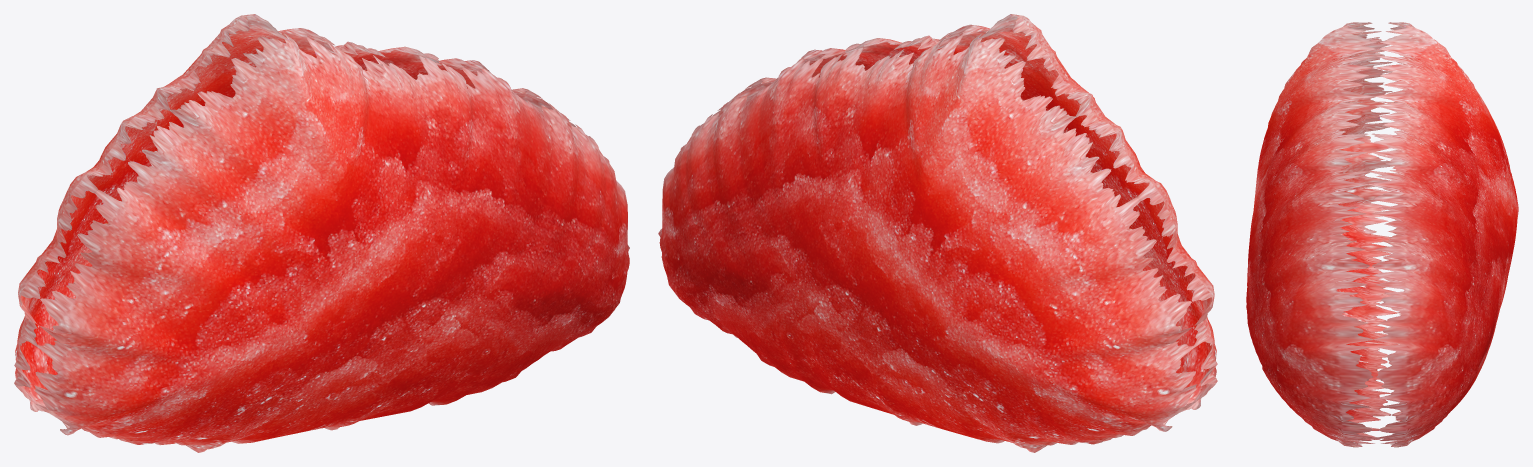
The model's file is fresa-vodka.glb.
3 views of the same model, side by side, from view 1: azimuth 30°, elevation 25°; view 2: azimuth 150°, elevation 25°; view 3: azimuth 270°, elevation 25° (orthographic). The views are drawn at different scales.
Parts seen in each view (by area): view 1: fresa-vodka; view 2: fresa-vodka; view 3: fresa-vodka.
Part boxes in pixels (x1,y1,x2,y2): fresa-vodka: [14, 14, 629, 452]; fresa-vodka: [658, 14, 1217, 452]; fresa-vodka: [1246, 22, 1518, 447].
Size of the model in its own units: 1.98 by 1.38 by 0.9744.
1 material, 1 textured.
